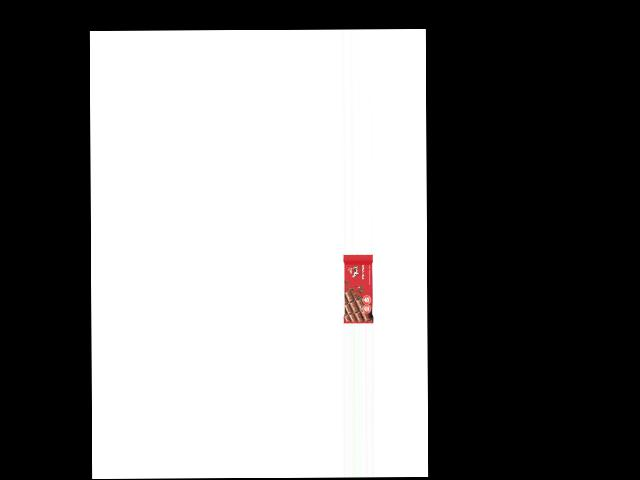chocolate: (343, 253, 373, 323)
